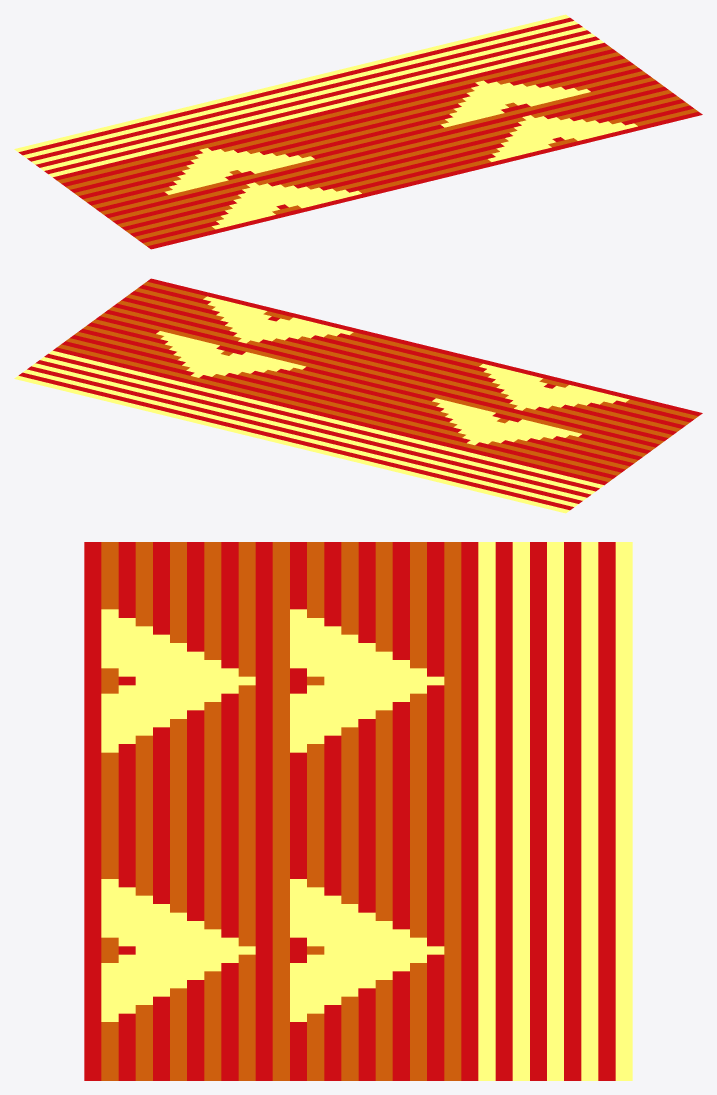
File: SpeedUp.fbx
The picture shows the model from 3 angles, top to bottom: view 1: azimuth 30°, elevation 25°; view 2: azimuth 150°, elevation 25°; view 3: azimuth 270°, elevation 25°; orthographic projection. The views are drawn at different scales.
Visible parts, largest first — view 1: 平面; view 2: 平面; view 3: 平面.
Part boxes in pixels (left/top/right/bottom): 平面: left=14, top=14, right=702, bottom=249; 平面: left=14, top=278, right=702, bottom=513; 平面: left=84, top=542, right=632, bottom=1080.
Bounding box in the file's own units: 92.98 × 6.52e-06 × 40.
